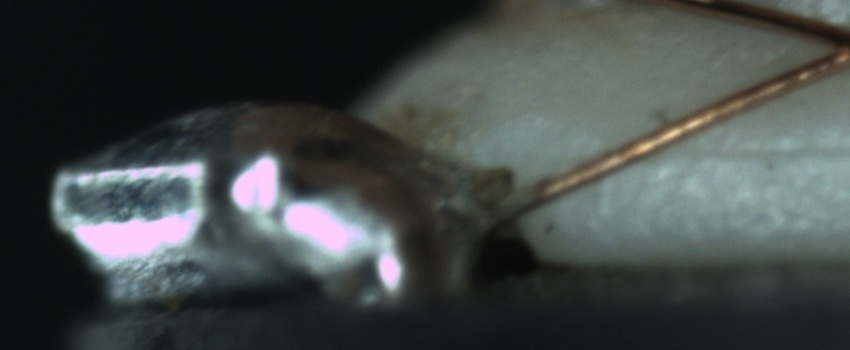CL: (801, 13, 849, 76)
DL: (631, 117, 847, 187)
